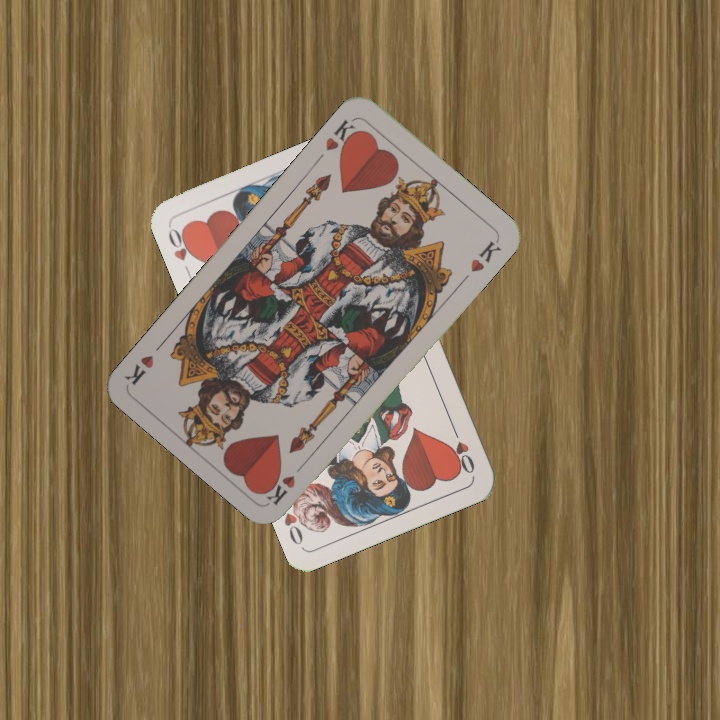HK: (262, 456, 310, 508), (321, 115, 363, 157)
HO: (447, 420, 478, 477), (163, 222, 200, 264)
